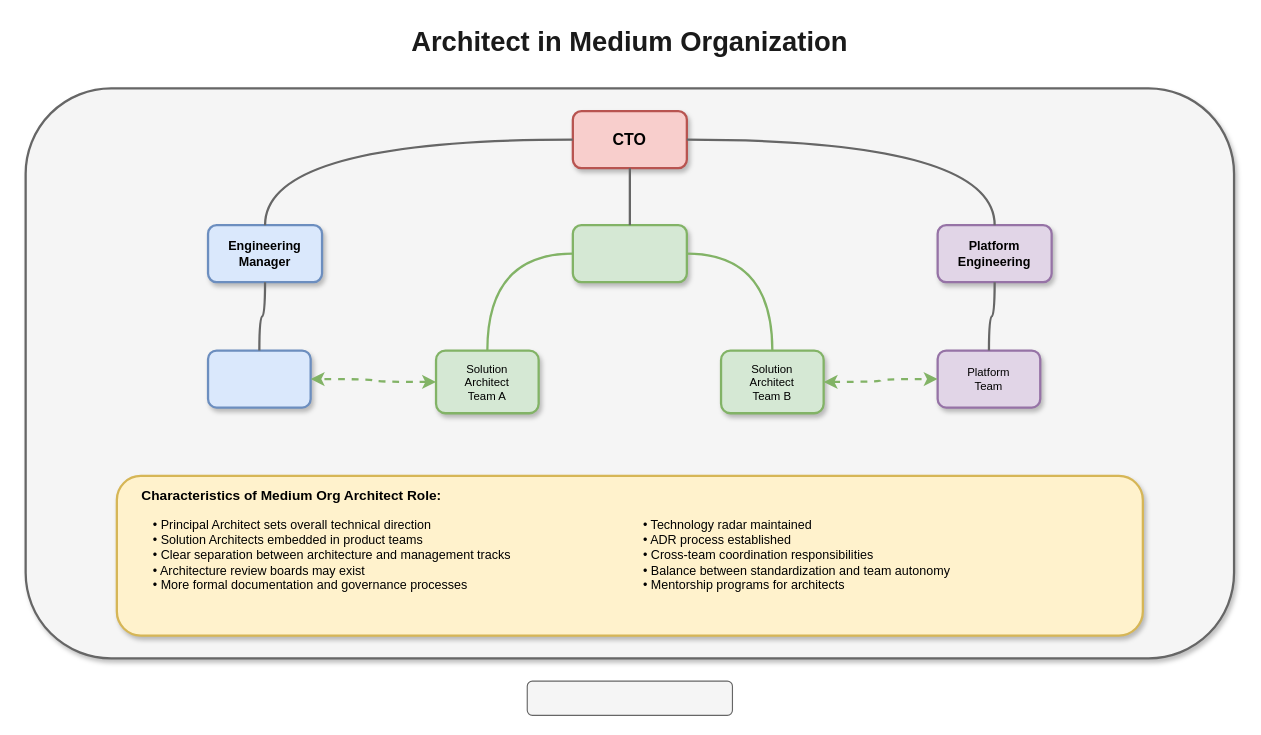
Some shapes in this 1261 by 735 pixel diagram are drawn without their labels. The centre of each missing label's shape, as x and y in pixels:
Dev Team Lead: the point at 260,380
Principal Architect: the point at 630,255
Typical Org: 50-200 people: the point at 629,697
